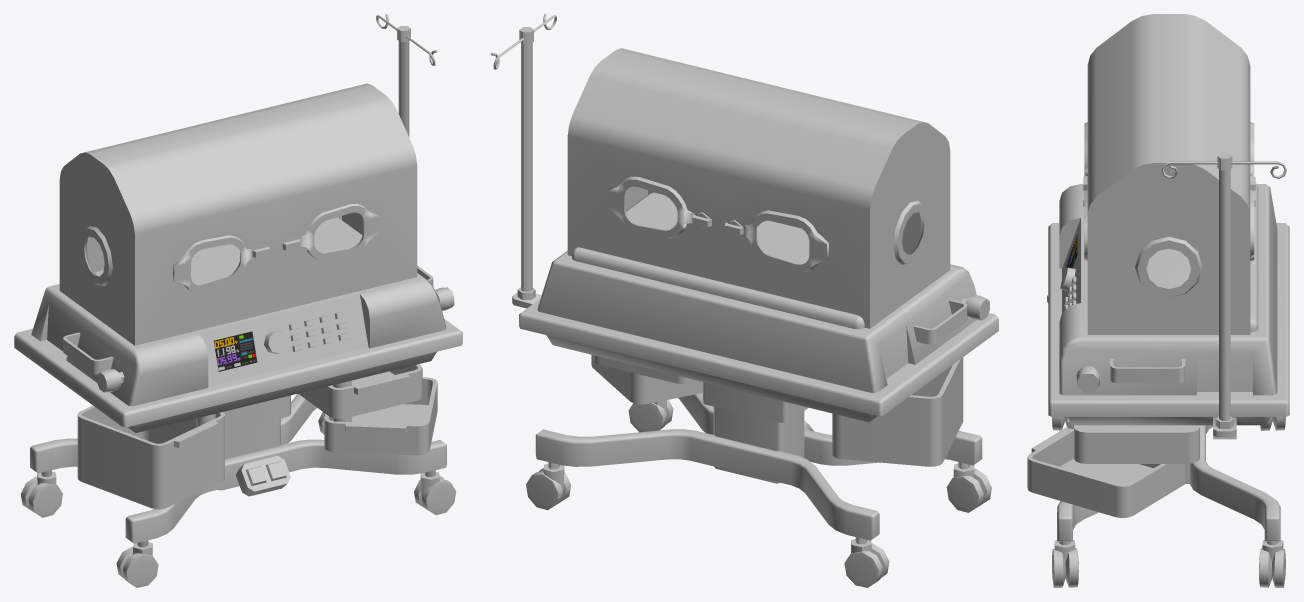
Rendered from Incubator_01.fbx.
The picture shows the model from 3 angles, left to right: view 1: azimuth 30°, elevation 25°; view 2: azimuth 150°, elevation 25°; view 3: azimuth 270°, elevation 25°; orthographic projection. The views are drawn at different scales.
Visible parts, largest first — view 1: Incubator_01; view 2: Incubator_01; view 3: Incubator_01.
Boxes of the visible parts, left/top/right/bottom form: Incubator_01: left=14, top=14, right=462, bottom=587; Incubator_01: left=491, top=14, right=998, bottom=587; Incubator_01: left=1027, top=14, right=1289, bottom=587.
Bounding box in the file's own units: 135 × 75.45 × 143.
